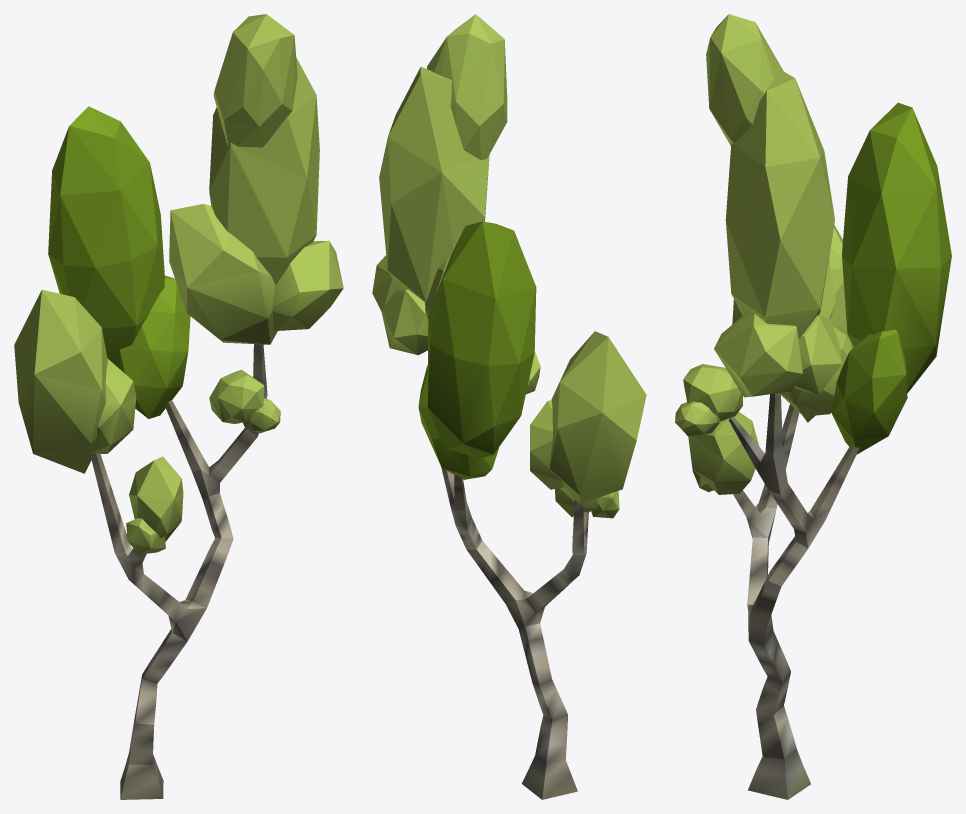
The model's file is large birch tree.fbx.
3 views of the same model, side by side, from view 1: azimuth 30°, elevation 25°; view 2: azimuth 150°, elevation 25°; view 3: azimuth 270°, elevation 25° (orthographic). The views are drawn at different scales.
Parts seen in each view (by area): view 1: Icosphere.014; view 2: Icosphere.014; view 3: Icosphere.014.
Boxes of the visible parts, left/top/right/bottom form: Icosphere.014: left=14, top=14, right=343, bottom=799; Icosphere.014: left=372, top=14, right=646, bottom=799; Icosphere.014: left=675, top=14, right=951, bottom=799.
Size of the model in its own units: 1254 by 3124 by 948.
Materials: 6 (5 with a texture image).
